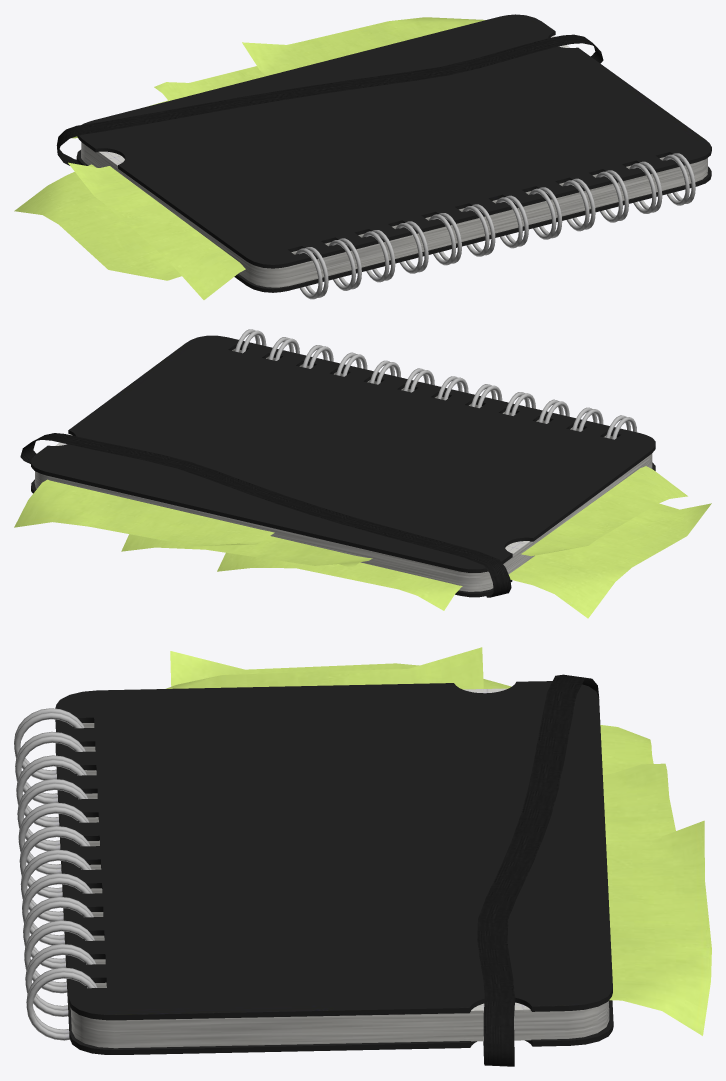
File: diary.glb
3 renders of one model, top to bottom at view 1: azimuth 30°, elevation 25°; view 2: azimuth 150°, elevation 25°; view 3: azimuth 270°, elevation 25°, orthographic. The views are drawn at different scales.
Visible parts, largest first — view 1: Cube.002_Material_0; view 2: Cube.002_Material_0; view 3: Cube.002_Material_0.
Part boxes in pixels (x1=…): Cube.002_Material_0: x1=14, y1=14, x2=711, y2=299; Cube.002_Material_0: x1=14, y1=329, x2=711, y2=618; Cube.002_Material_0: x1=14, y1=647, x2=711, y2=1066.
Bounding box in the file's own units: 0.1891 × 0.016 × 0.1375.
Materials: 1 (1 with a texture image).
